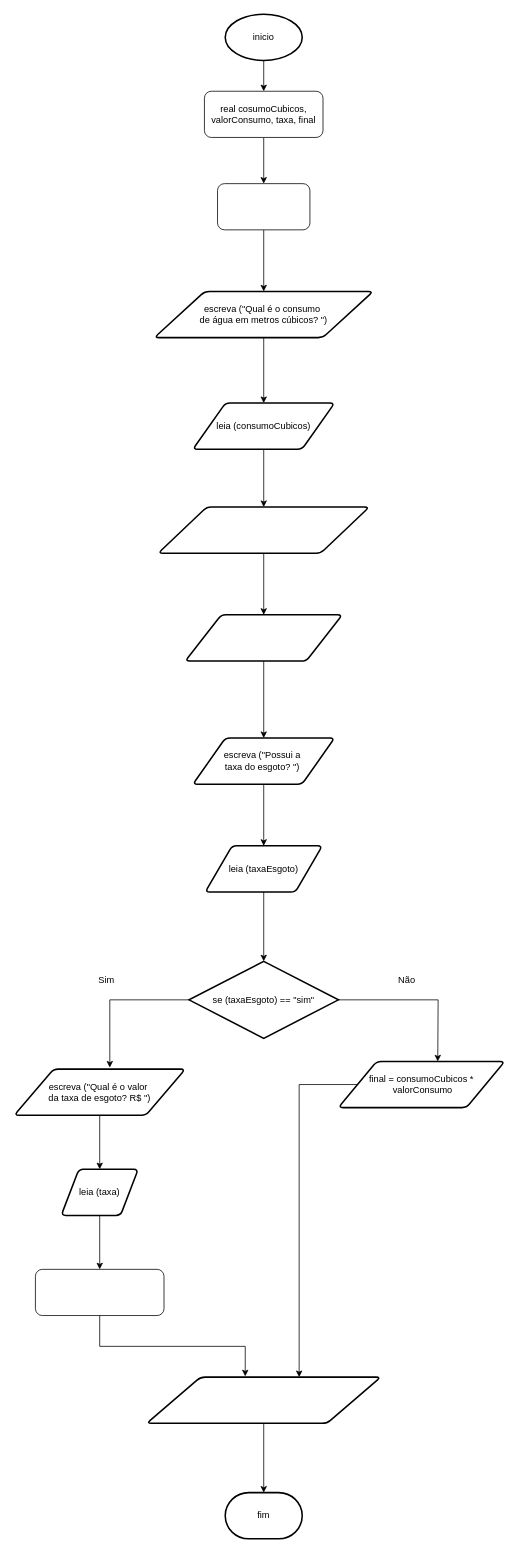
Some shapes in this 518 by 1552 pixel diagram are drawn without their labels. The shapes that lost their labels are listed below. From the top down, each one's box as (x1, y1, x2, y2) in pixels, then its label:
(217, 183, 310, 230): cadeia taxaEsgoto
(157, 506, 370, 554): escreva ("Qual é o valor correspondente ao consumo? ")
(184, 614, 343, 661): leia (valorConsumo)
(35, 1269, 164, 1316): final = consumoCubicos * valorConsumo + taxa
(146, 1376, 381, 1424): escreva ("O valor aproximado da sua conta de água é de R$", final)
